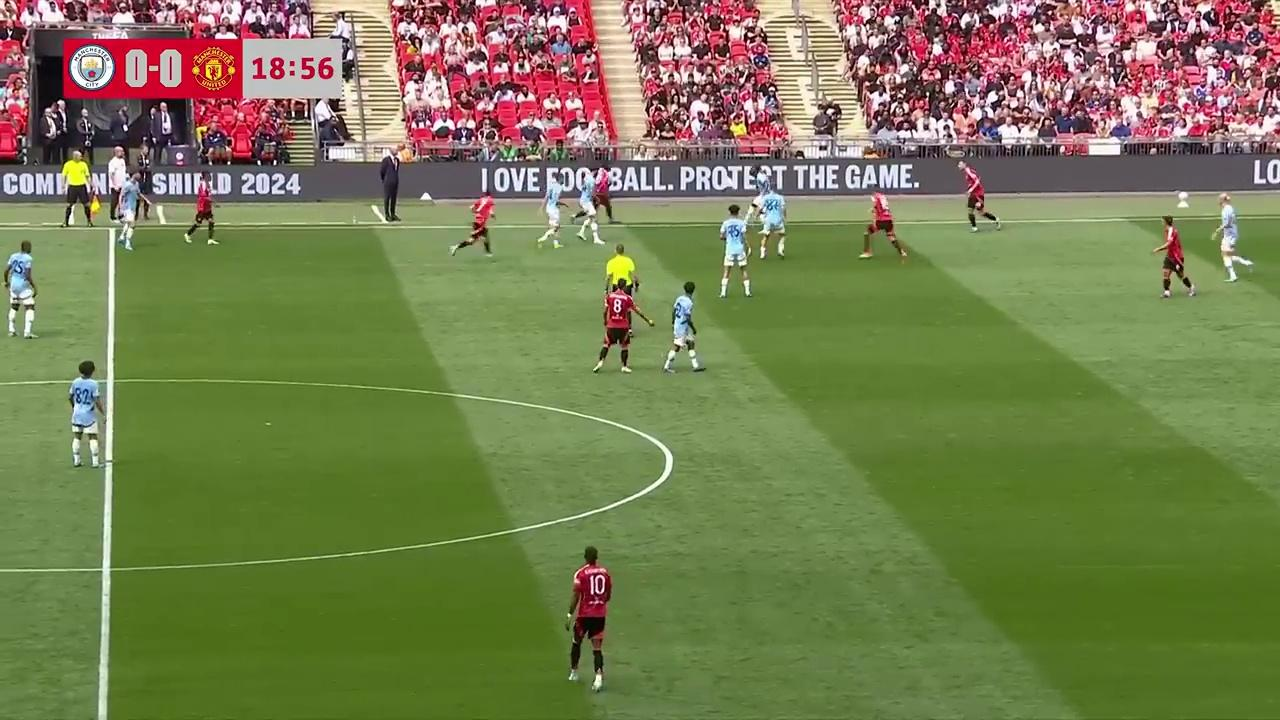player: (565, 547, 612, 691), (592, 282, 638, 374), (67, 360, 104, 469), (662, 283, 706, 374), (1210, 193, 1252, 284), (1152, 214, 1199, 295), (859, 190, 909, 261), (953, 156, 999, 231), (718, 205, 753, 299), (3, 240, 35, 339), (184, 171, 221, 245), (451, 193, 495, 255), (451, 194, 494, 256), (117, 166, 146, 249), (574, 174, 605, 243), (756, 187, 787, 256), (585, 167, 613, 228), (537, 192, 564, 249), (747, 166, 773, 217)
referee: (61, 151, 98, 230), (604, 242, 642, 300)
